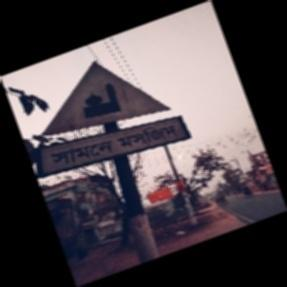Mosque in front: (36, 58, 182, 177)
